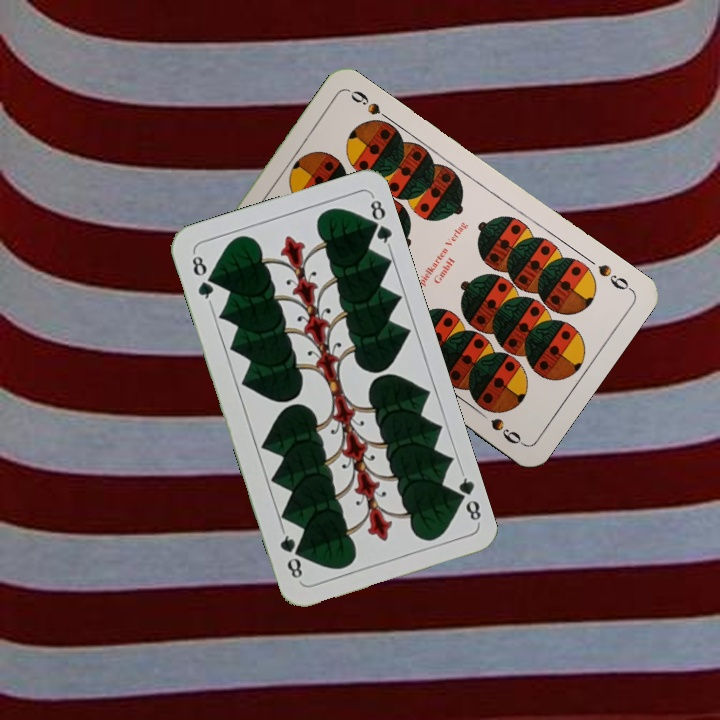G8: (448, 468, 484, 525), (188, 249, 217, 306)
S9: (593, 260, 635, 294)
